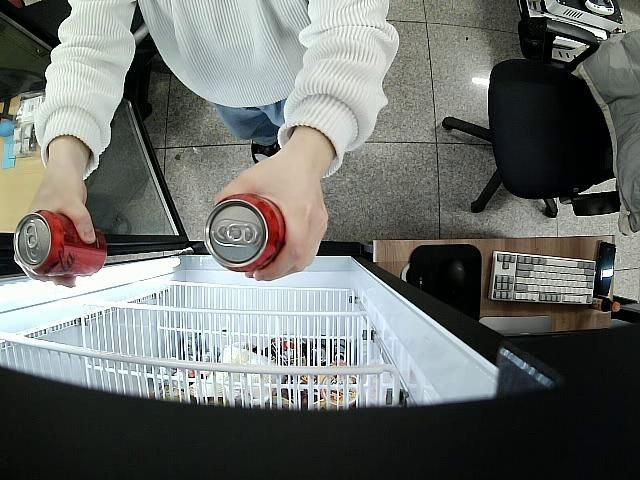11_cocaColaZero: (202, 192, 287, 272), (14, 209, 106, 278)
